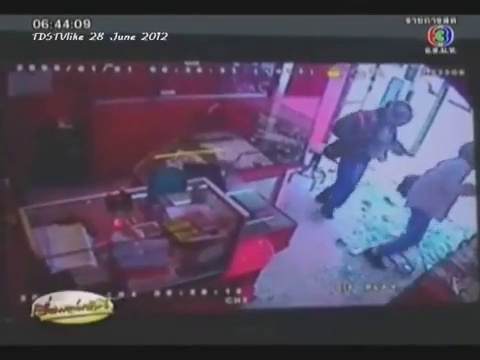helmet: (381, 101, 410, 125)
